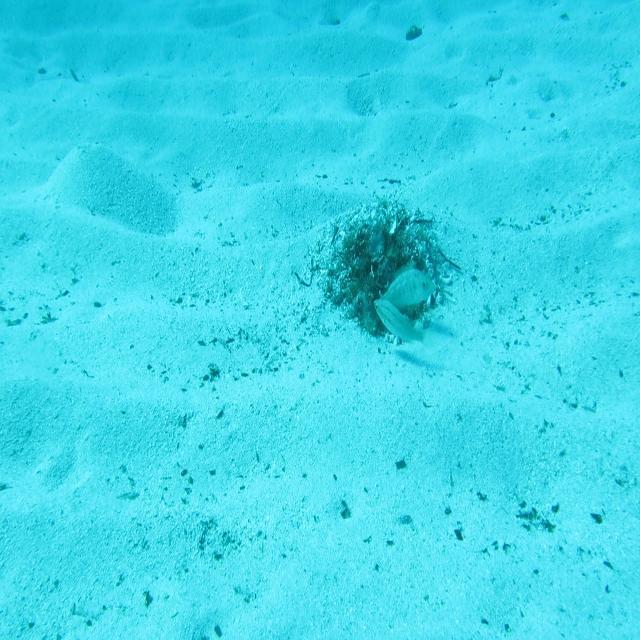DAN_CIRC: (370, 256, 437, 328)
female: (372, 298, 434, 351)
nest: (329, 200, 454, 347)
